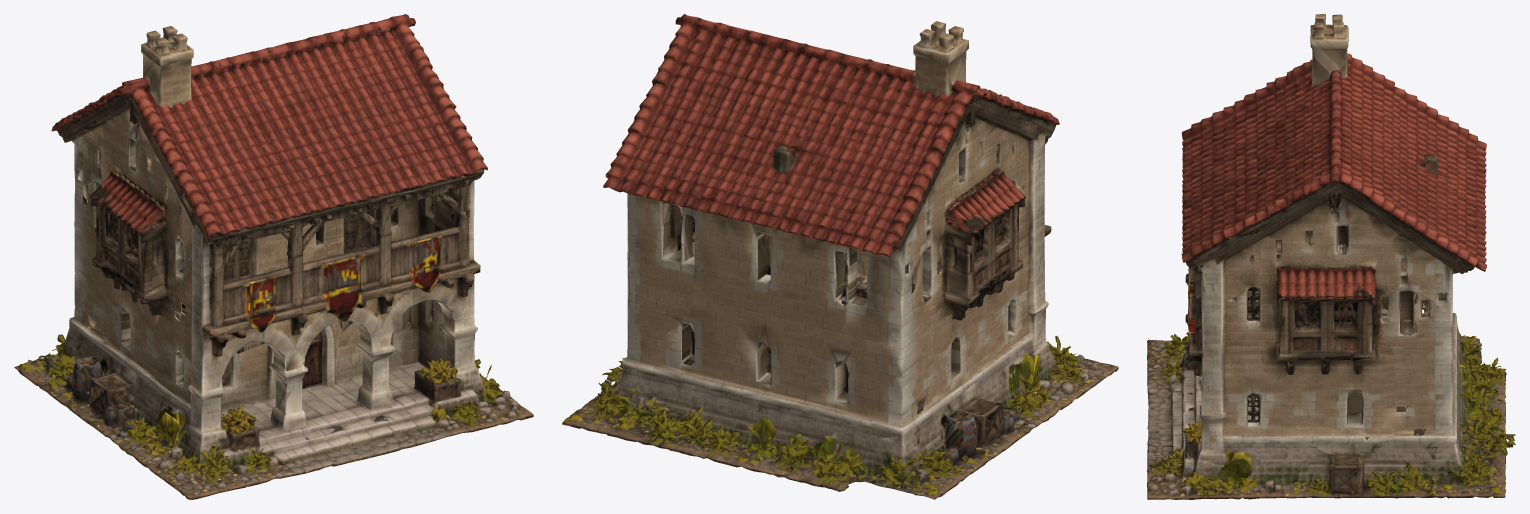
Rendered from SM_ConsejoDeGobierno.fbx.
The picture shows the model from 3 angles, left to right: view 1: azimuth 30°, elevation 25°; view 2: azimuth 150°, elevation 25°; view 3: azimuth 270°, elevation 25°; orthographic projection. The views are drawn at different scales.
Parts seen in each view (by area): view 1: SM_ConsejoDeGobierno; view 2: SM_ConsejoDeGobierno; view 3: SM_ConsejoDeGobierno.
Boxes of the visible parts, box(x1,y1,x2,y2) form: SM_ConsejoDeGobierno: box(14, 14, 533, 499); SM_ConsejoDeGobierno: box(562, 14, 1118, 499); SM_ConsejoDeGobierno: box(1147, 14, 1515, 499).
Bounding box in the file's own units: 99.54 × 102 × 95.62.
1 material, 1 textured.
